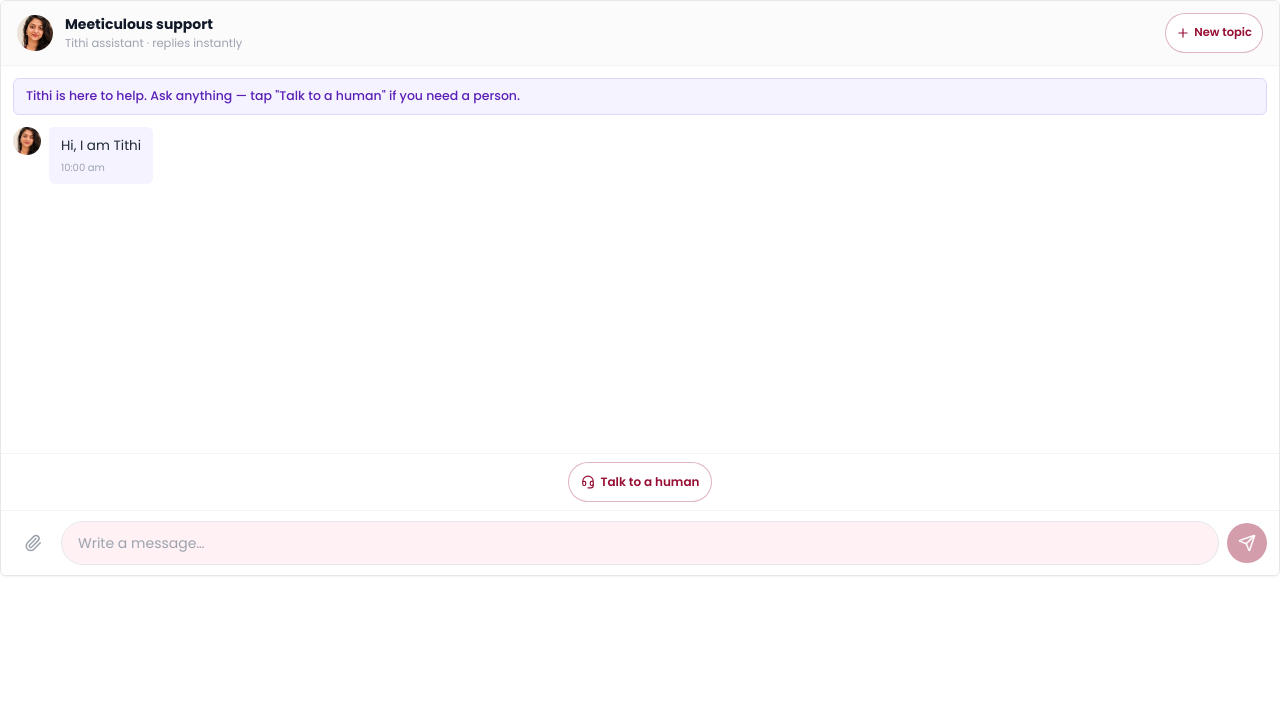
Test: SupportChat › shows a "Tithi is typing" indicator after the user sends, in the bot phase
The image size is (1280, 720).
Expected: the text "Hi, I am Tithi" is shown, [61,135,141,156]
Type "help me" into the field labelled "message".
click(640, 543); type("help me")  # box [61,521,1219,565]
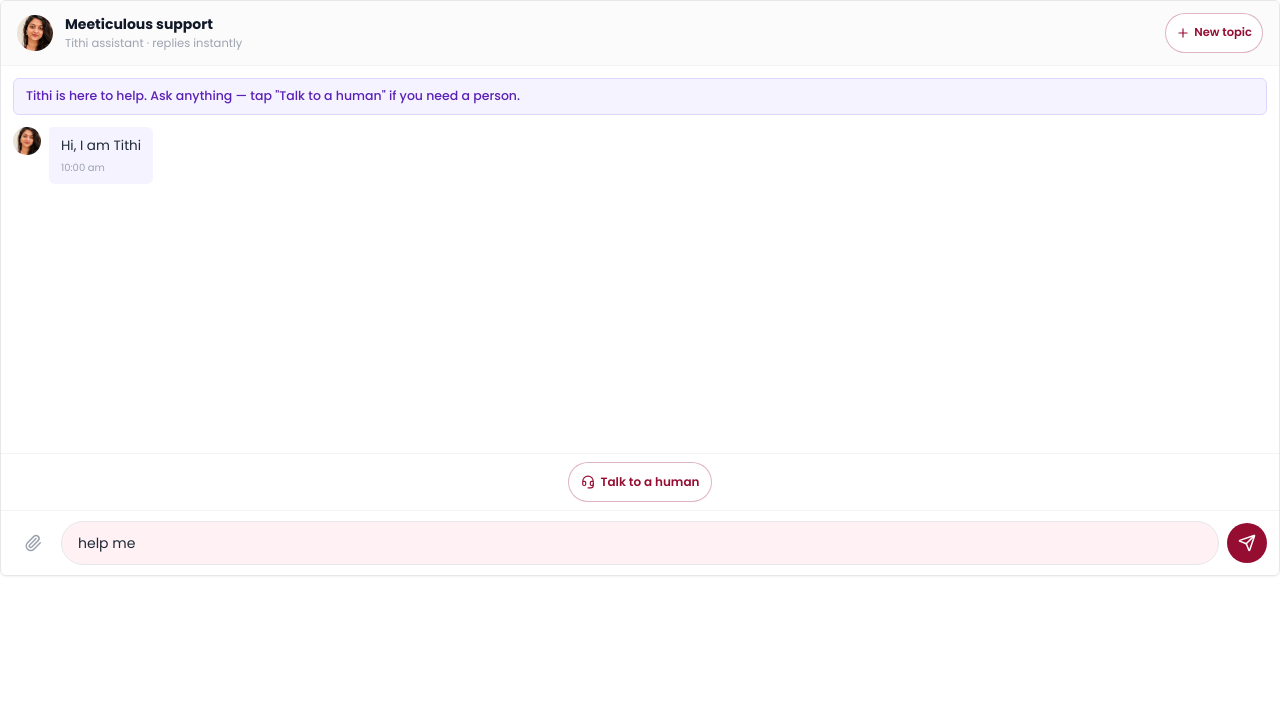
Click the button named "Send".
click(1247, 543)  # box [1227,523,1267,563]
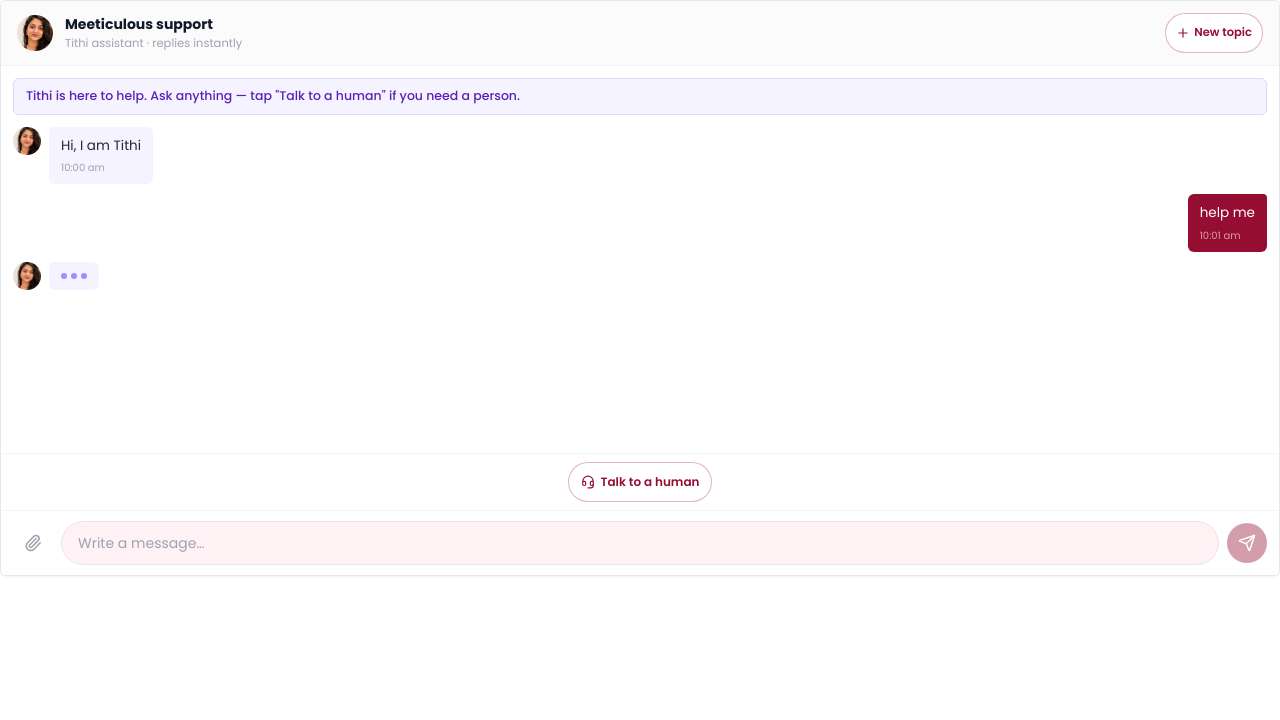
Expected: the message named "tithi is typing" is shown, [13,262,99,290]
